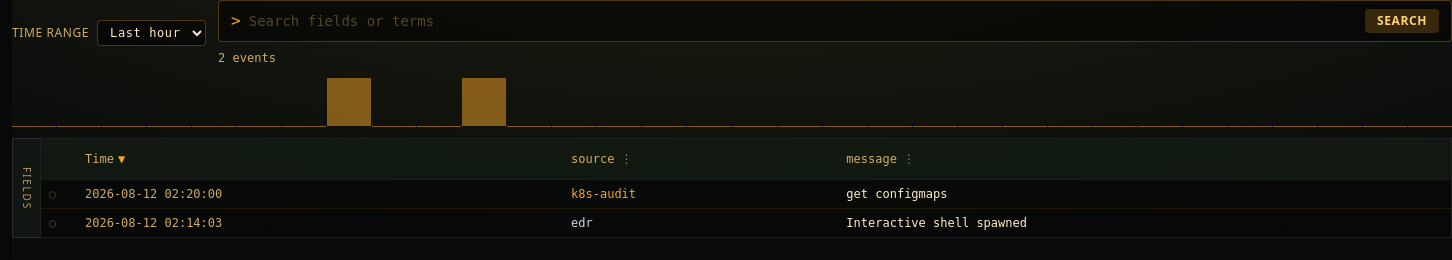
LogExplorer › opens the field browser from the edge tab
Click the button with aria-label "open field browser": x=26, y=188 [12,138,40,238]
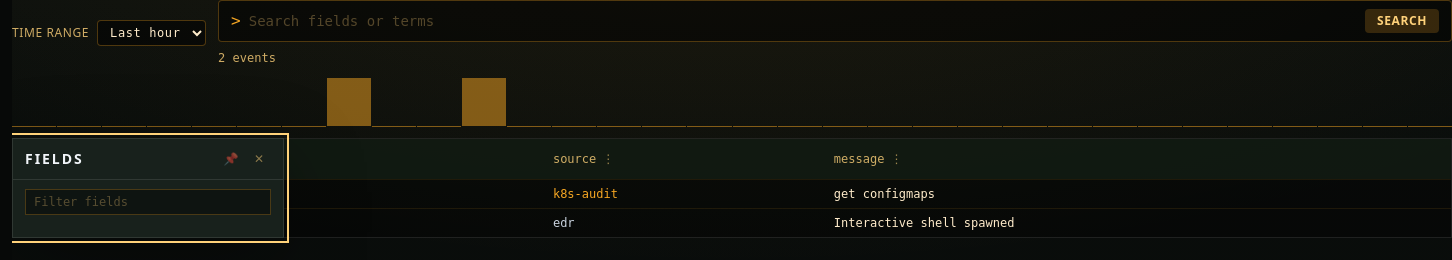
Check: the element with test id "field-panel" is shown, box [12,138,284,238]
